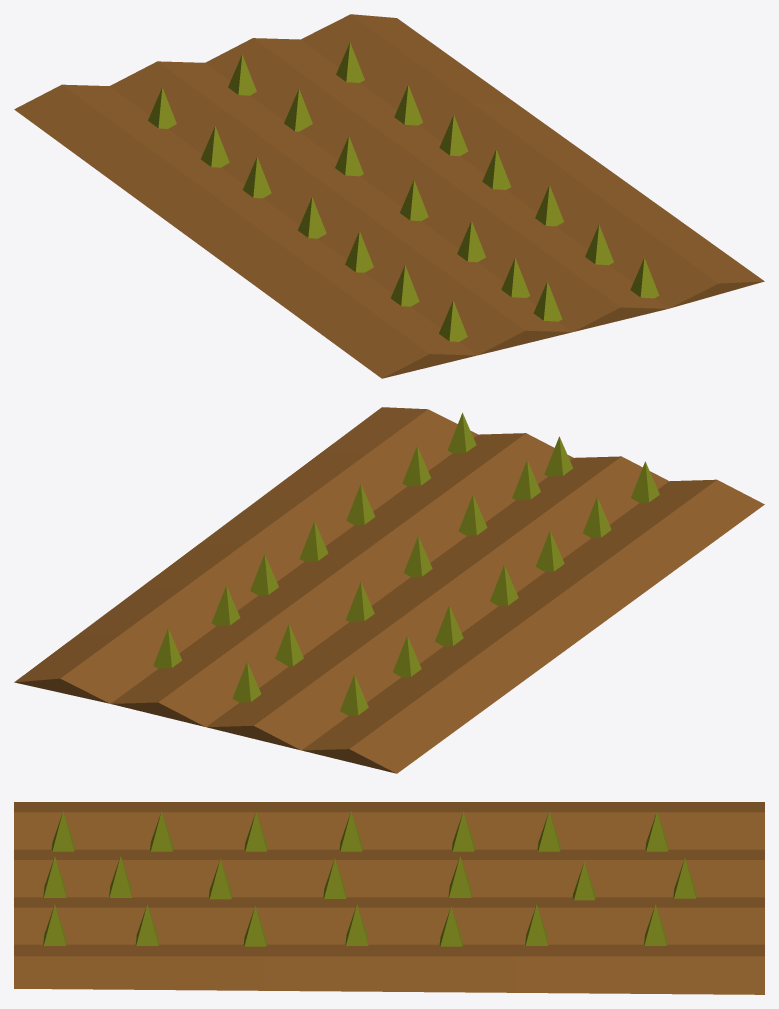
The model's file is Field 1.fbx.
The picture shows the model from 3 angles, top to bottom: view 1: azimuth 30°, elevation 25°; view 2: azimuth 150°, elevation 25°; view 3: azimuth 270°, elevation 25°; orthographic projection. The views are drawn at different scales.
Visible parts, largest first — view 1: Cube.000, Cube.013, Cube.002, Cube.001; view 2: Cube.000, Cube.013, Cube.002, Cube.001; view 3: Cube.000, Cube.001, Cube.002, Cube.013.
Part boxes in pixels (x1=…): Cube.000: x1=14, y1=14, x2=764, y2=378; Cube.013: x1=148, y1=87, x2=467, y2=341; Cube.002: x1=228, y1=54, x2=562, y2=321; Cube.001: x1=336, y1=42, x2=659, y2=298; Cube.000: x1=14, y1=407, x2=764, y2=773; Cube.013: x1=340, y1=461, x2=659, y2=715; Cube.002: x1=232, y1=436, x2=573, y2=702; Cube.001: x1=153, y1=412, x2=476, y2=668; Cube.000: x1=14, y1=802, x2=764, y2=994; Cube.001: x1=43, y1=904, x2=666, y2=946; Cube.002: x1=43, y1=856, x2=696, y2=900; Cube.013: x1=51, y1=811, x2=668, y2=851.
Bounding box in the file's own units: 833 × 86.65 × 1387.
